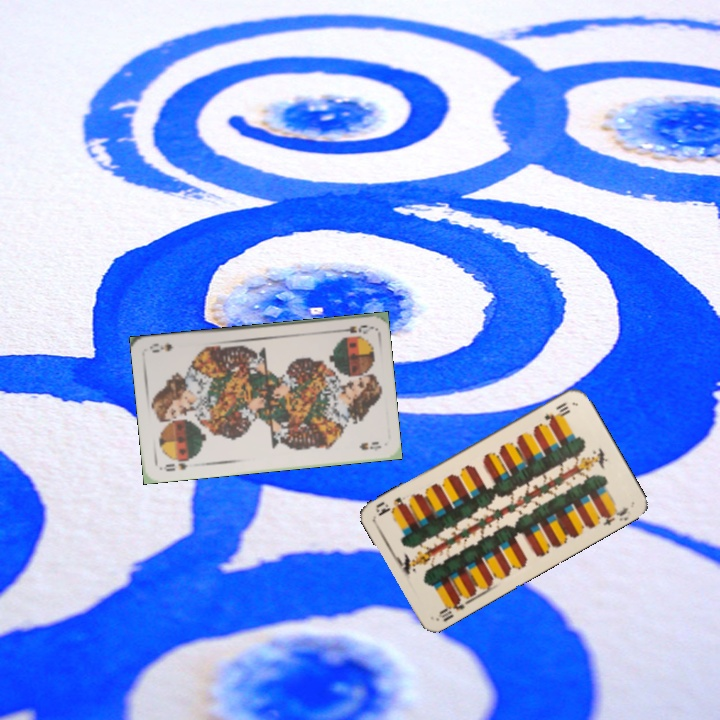E10: (433, 591, 471, 623), (540, 398, 571, 424)
SO: (157, 455, 192, 474), (333, 321, 373, 337)
